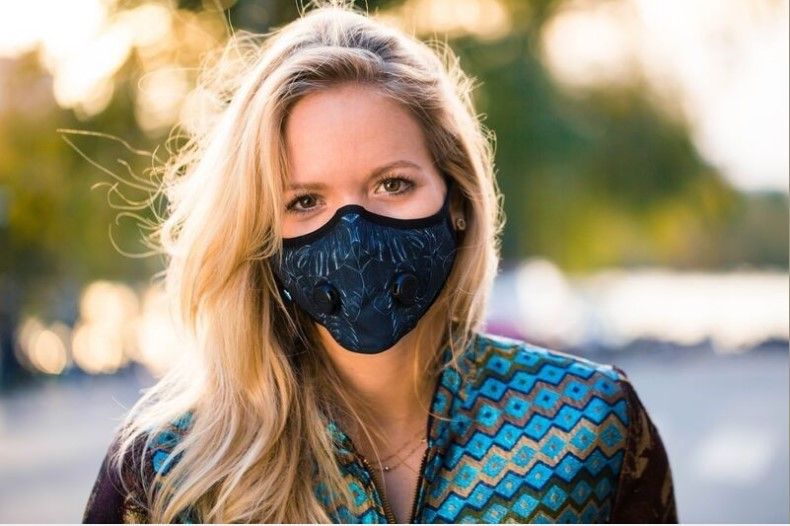face_with_mask: (245, 42, 489, 356)
